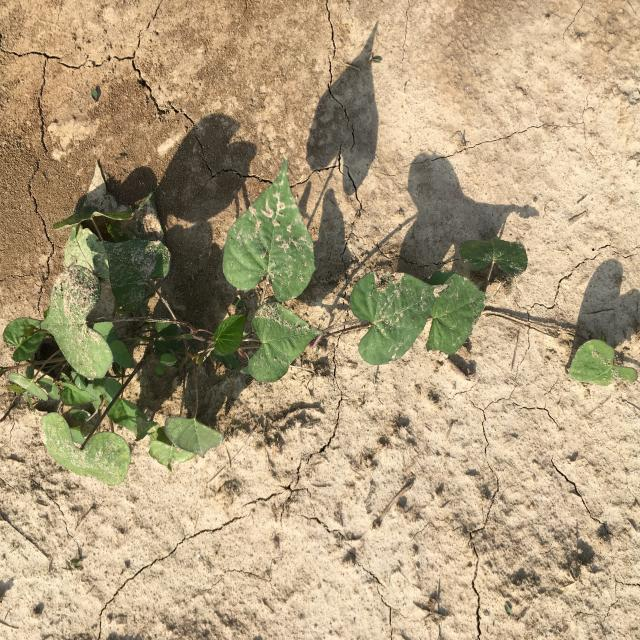MorningGlory: (1, 156, 638, 486)
